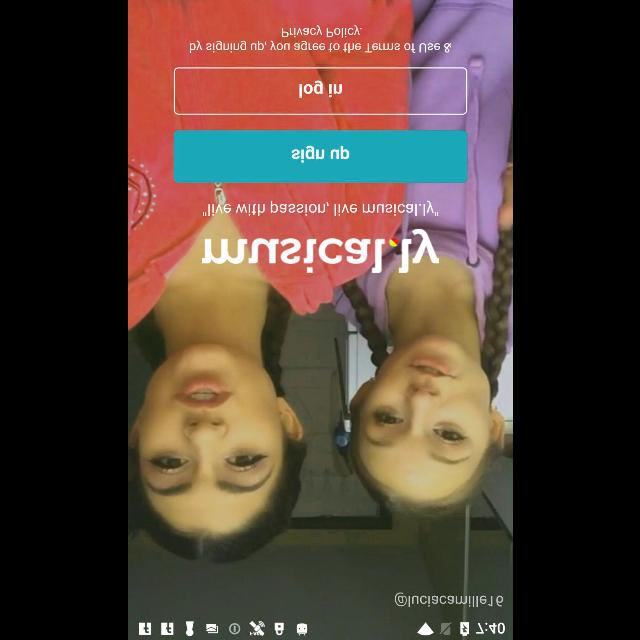backgroundimage: (128, 0, 512, 620)
image: (201, 228, 439, 272)
text: (189, 25, 451, 53), (202, 200, 438, 217), (393, 592, 502, 608)
textbutton: (173, 130, 467, 182), (174, 68, 466, 114)
uppertaskbar: (128, 620, 512, 640)
